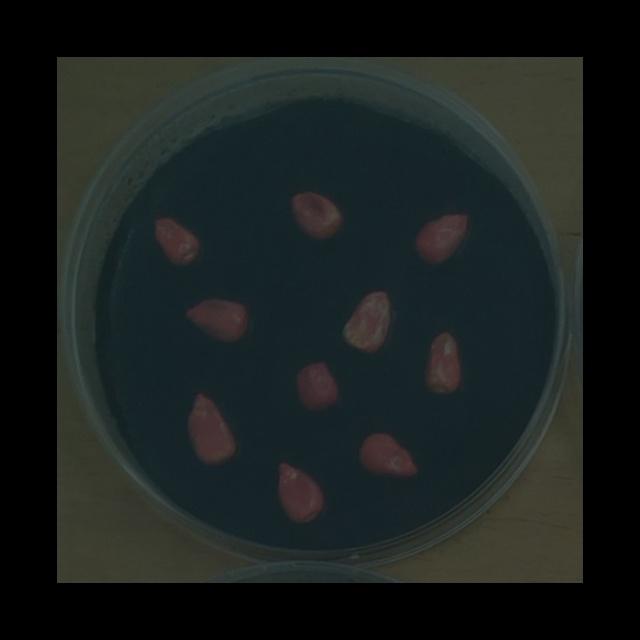Zea mays: (181, 389, 241, 472), (336, 284, 398, 361), (176, 292, 255, 351), (270, 458, 332, 529), (407, 208, 476, 271), (352, 426, 423, 483), (284, 185, 349, 247), (416, 326, 467, 403), (146, 210, 207, 271), (288, 356, 344, 420)
